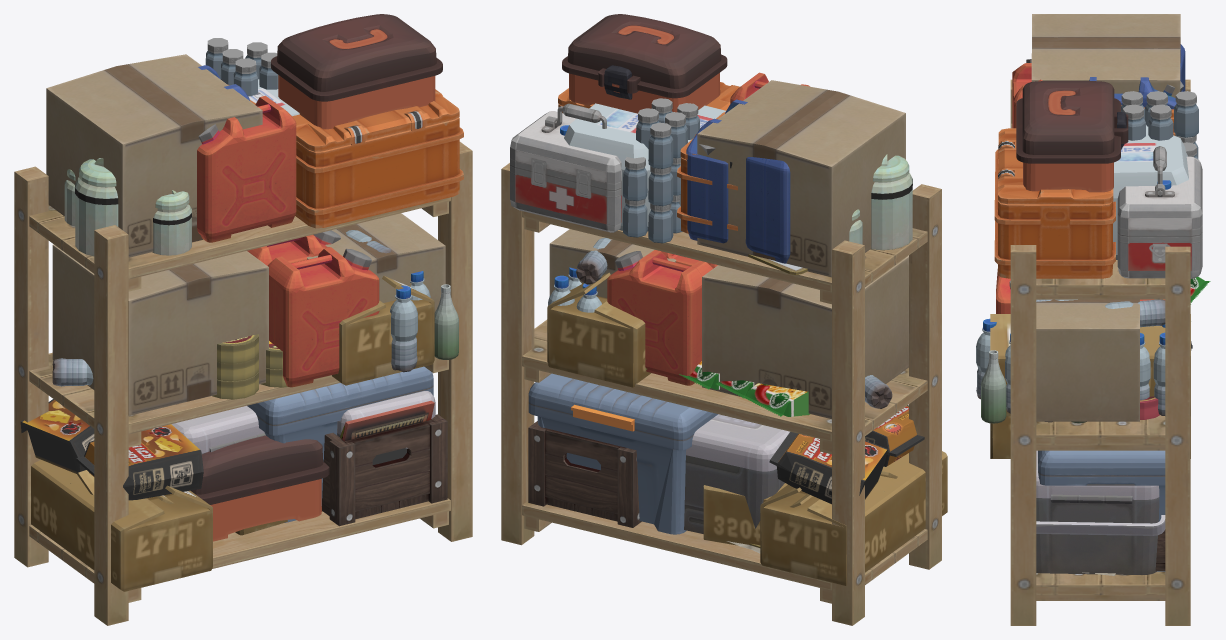
File: P_Shelf_001_S1_M01.obj
The picture shows the model from 3 angles, left to right: view 1: azimuth 30°, elevation 25°; view 2: azimuth 150°, elevation 25°; view 3: azimuth 270°, elevation 25°; orthographic projection. The views are drawn at different scales.
Bounding box in the file's own units: 1.87 × 2.42 × 1.07.
144 materials, 144 textured.
